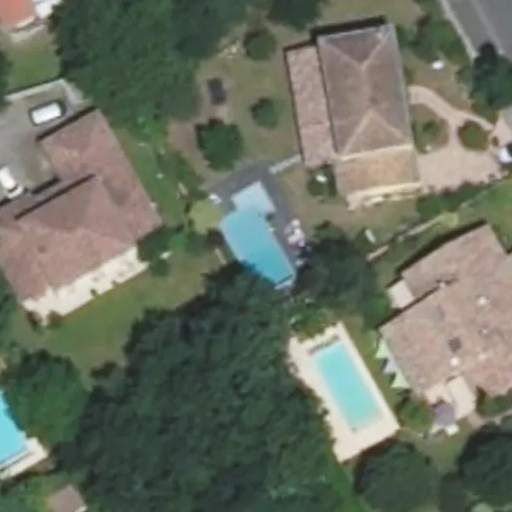pool: (209, 211, 308, 272)
